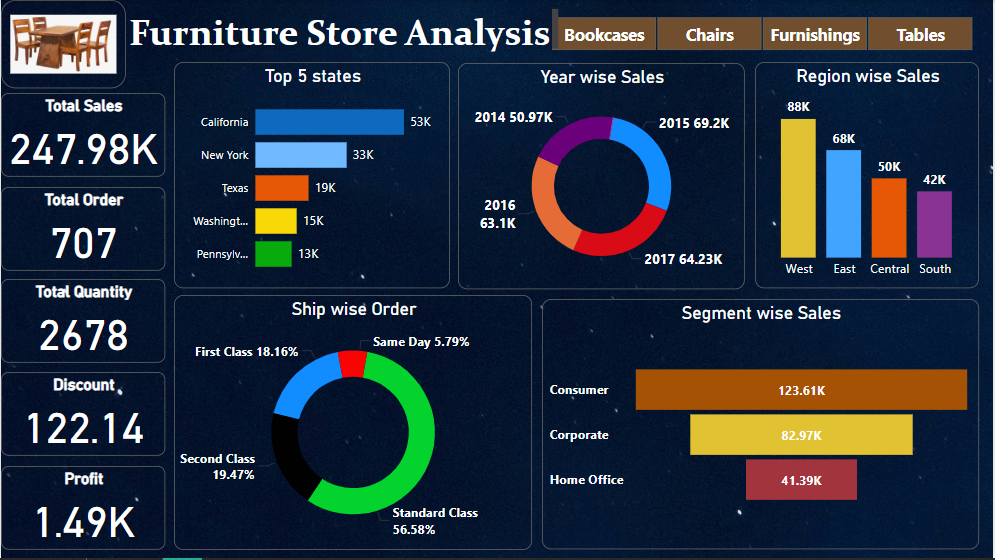

The page's visual inventory and layout, read from the dashboard file:
{"tool":"powerbi","page":{"name":"Page 1","canvas":[1280,720],"ordinal":0},"visuals":[{"type":"card","title":"Total Sales","fields":{"Values":["Sum(Furniture Store Analysis.Sales)"]},"box":[0,119.7,212.1,107.6],"z":0},{"type":"card","title":"Total Quantity","fields":{"Values":["Sum(Furniture Store Analysis.Quantity)"]},"box":[0,360.6,212.1,107.6],"z":1000},{"type":"card","title":"Discount","fields":{"Values":["Sum(Furniture Store Analysis.Discount)"]},"box":[0,480.3,212.1,107.6],"z":2000},{"type":"card","title":"Profit","fields":{"Values":["Sum(Furniture Store Analysis.Profit)"]},"box":[0,601.5,212.1,107.6],"z":3000},{"type":"card","title":"Total Order","fields":{"Values":["Count(Furniture Store Analysis.Order ID)"]},"box":[0,240.9,212.1,107.6],"z":4000},{"type":"barChart","title":"Top 5 states","fields":{"Category":["Furniture Store Analysis.State"],"Y":["Sum(Furniture Store Analysis.Sales)"]},"box":[222.7,80.3,356.1,292.4],"z":6000},{"type":"donutChart","title":"Ship wise Order","fields":{"Category":["Furniture Store Analysis.Ship Mode"],"Y":["CountNonNull(Furniture Store Analysis.Order ID)"]},"box":[222.7,380.3,462.1,328.8],"z":7000},{"type":"columnChart","title":"Region wise Sales","fields":{"Y":["Sum(Furniture Store Analysis.Sales)"],"Category":["Furniture Store Analysis.Region"]},"box":[972.7,80.3,289.4,292.4],"z":8000},{"type":"slicer","fields":{"Values":["Furniture Store Analysis.Sub-Category"]},"box":[684.8,15.2,592.4,56.1],"z":9000},{"type":"funnel","title":"Segment wise Sales","fields":{"Category":["Furniture Store Analysis.Segment"],"Y":["Sum(Furniture Store Analysis.Sales)"]},"box":[698.5,386.4,563.6,322.7],"z":10000},{"type":"textbox","box":[160.6,6.1,563.6,65.2],"z":11000},{"type":"image","box":[0,0,160.6,113.6],"z":12000},{"type":"pieChart","title":"Year wise Sales","fields":{"Category":["Furniture Store Analysis.YEARS"],"Y":["Sum(Furniture Store Analysis.Sales)"]},"box":[589.9,81,370.1,292],"z":12001}]}

Visuals, with their boxes in screenshot pixels (x1, y1, x2, y2), scaled from the page's 1280x720 canvas onto the 995x560 screenshot:
"Total Sales" card: BBox(0, 93, 165, 177)
"Total Quantity" card: BBox(0, 280, 165, 364)
"Discount" card: BBox(0, 374, 165, 457)
"Profit" card: BBox(0, 468, 165, 552)
"Total Order" card: BBox(0, 187, 165, 271)
"Top 5 states" barChart: BBox(173, 62, 450, 290)
"Ship wise Order" donutChart: BBox(173, 296, 532, 552)
"Region wise Sales" columnChart: BBox(756, 62, 981, 290)
slicer - Furniture Store Analysis.Sub-Category: BBox(532, 12, 993, 55)
"Segment wise Sales" funnel: BBox(543, 301, 981, 552)
textbox: BBox(125, 5, 563, 55)
image: BBox(0, 0, 125, 88)
"Year wise Sales" pieChart: BBox(459, 63, 746, 290)
